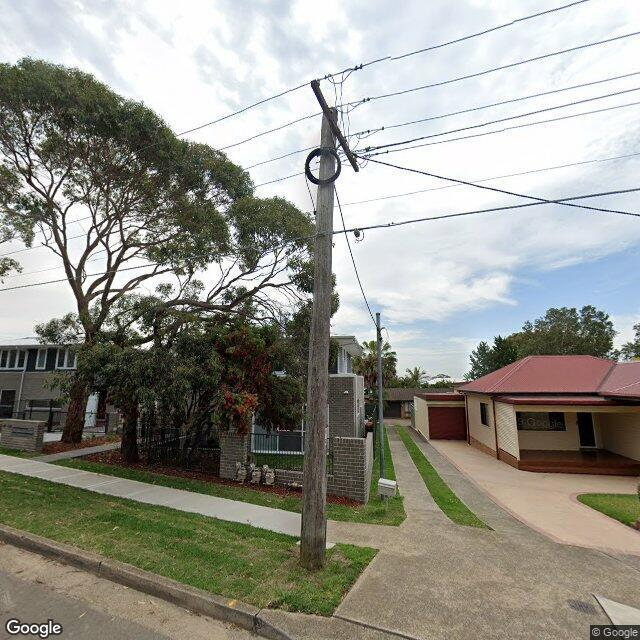crossarm: (310, 78, 360, 172)
steel-pole: (376, 312, 384, 498)
timber-pole: (299, 108, 338, 570)
